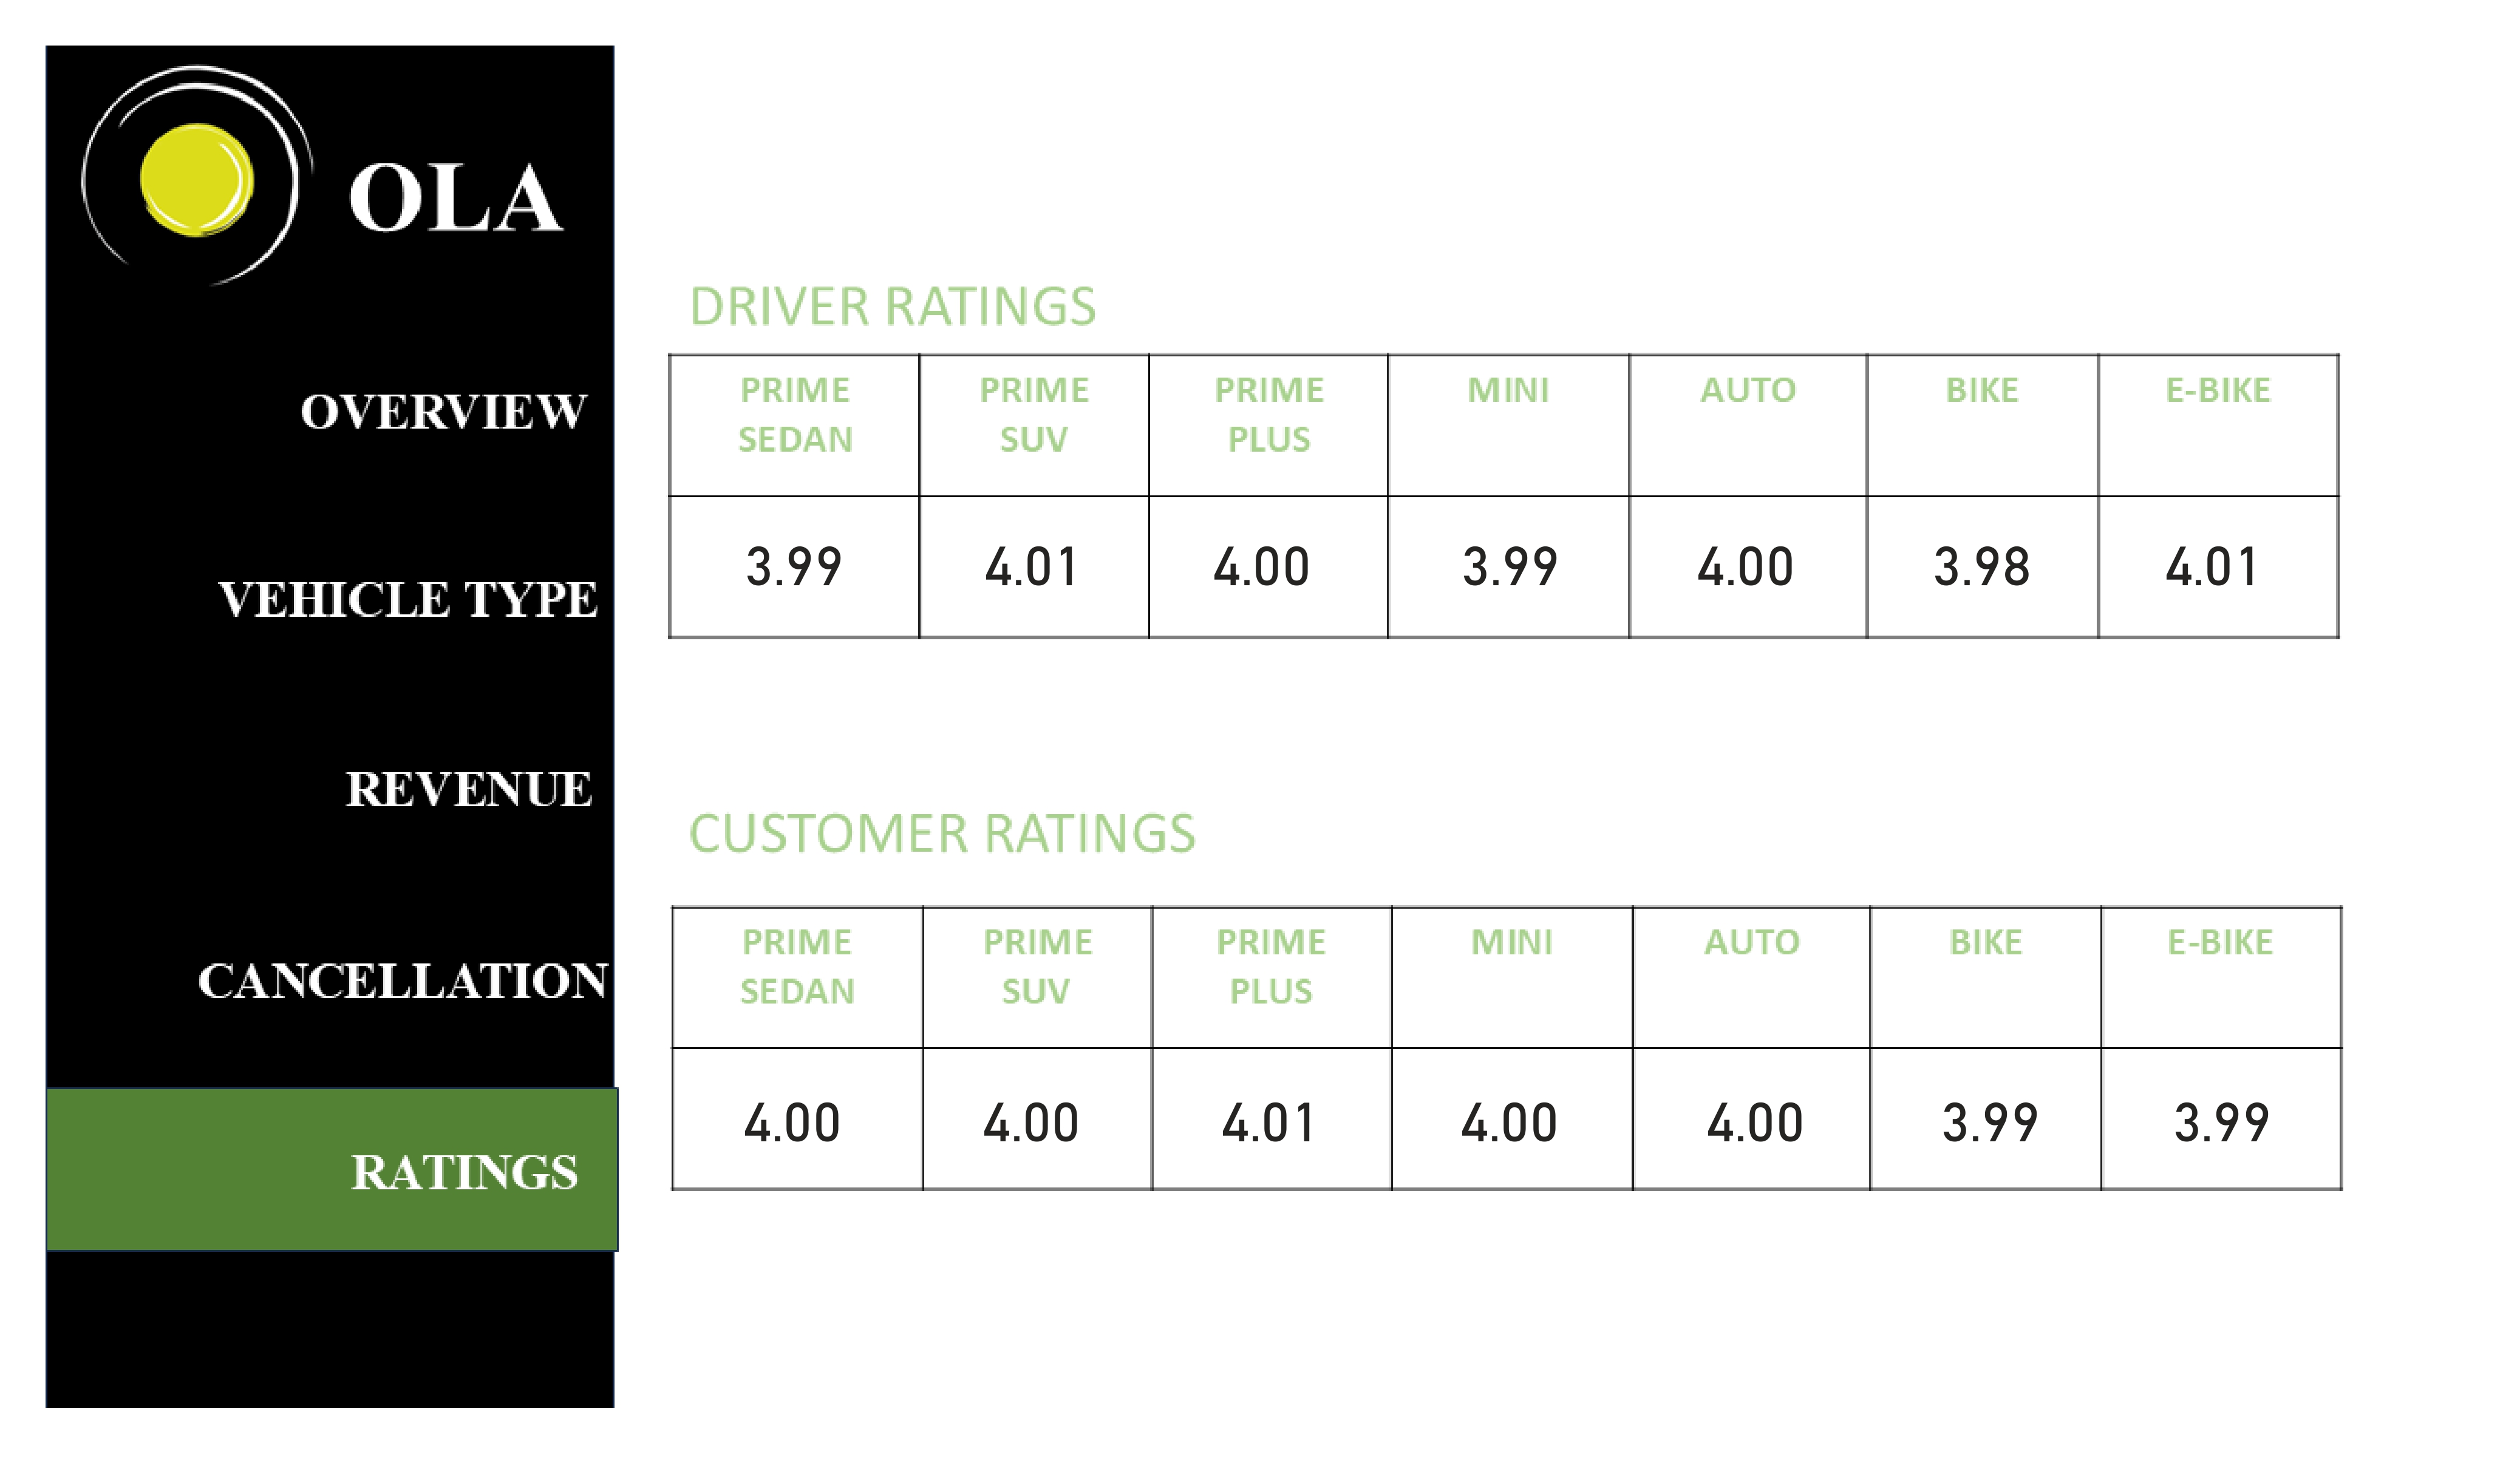

Layout of this report page (visuals, bound fields, positions):
{"tool":"powerbi","page":{"name":"RATINGS","canvas":[1280,720],"ordinal":4},"visuals":[{"type":"actionButton","box":[0,242.6,301.9,98.1],"z":0},{"type":"actionButton","box":[0,340.7,301.9,98.1],"z":1},{"type":"actionButton","box":[1.9,438.9,301.9,98.1],"z":2},{"type":"actionButton","box":[0,140.7,301.9,98.1],"z":3},{"type":"card","fields":{"Values":["Avg(July.Driver_Ratings)"]},"box":[335.2,238.9,118.5,66.7],"z":4},{"type":"card","fields":{"Values":["Avg(July.Driver_Ratings)"]},"box":[468.5,238.9,103.7,66.7],"z":5},{"type":"card","fields":{"Values":["Avg(July.Driver_Ratings)"]},"box":[588.9,238.9,103.7,66.7],"z":6},{"type":"card","fields":{"Values":["Avg(July.Driver_Ratings)"]},"box":[720.4,238.9,103.7,66.7],"z":7},{"type":"card","fields":{"Values":["Avg(July.Driver_Ratings)"]},"box":[844.4,238.9,103.7,66.7],"z":8},{"type":"card","fields":{"Values":["Avg(July.Driver_Ratings)"]},"box":[968.5,238.9,103.7,66.7],"z":9},{"type":"card","fields":{"Values":["Avg(July.Driver_Ratings)"]},"box":[1090.7,238.9,103.7,66.7],"z":10},{"type":"card","fields":{"Values":["Avg(July.Customer_Rating)"]},"box":[472.2,537,94.4,57.4],"z":11},{"type":"card","fields":{"Values":["Avg(July.Customer_Rating)"]},"box":[346.3,537,94.4,57.4],"z":12},{"type":"card","fields":{"Values":["Avg(July.Customer_Rating)"]},"box":[598.1,537,94.4,57.4],"z":13},{"type":"card","fields":{"Values":["Avg(July.Customer_Rating)"]},"box":[724.1,537,94.4,57.4],"z":14},{"type":"card","fields":{"Values":["Avg(July.Customer_Rating)"]},"box":[853.7,537,94.4,57.4],"z":15},{"type":"card","fields":{"Values":["Avg(July.Customer_Rating)"]},"box":[977.8,537,94.4,57.4],"z":16},{"type":"card","fields":{"Values":["Avg(July.Customer_Rating)"]},"box":[1100,537,94.4,57.4],"z":17}]}

Visuals, with their boxes on the page's 1280x720 design canvas (x1, y1, x2, y2). These are canvas units, not pixel positions in the 2520x1457 screenshot, which may show the page scaled, cropped or inside an application window:
actionButton: 0,243,302,341
actionButton: 0,341,302,439
actionButton: 2,439,304,537
actionButton: 0,141,302,239
card - Avg(July.Driver_Ratings): 335,239,454,306
card - Avg(July.Driver_Ratings): 468,239,572,306
card - Avg(July.Driver_Ratings): 589,239,693,306
card - Avg(July.Driver_Ratings): 720,239,824,306
card - Avg(July.Driver_Ratings): 844,239,948,306
card - Avg(July.Driver_Ratings): 968,239,1072,306
card - Avg(July.Driver_Ratings): 1091,239,1194,306
card - Avg(July.Customer_Rating): 472,537,567,594
card - Avg(July.Customer_Rating): 346,537,441,594
card - Avg(July.Customer_Rating): 598,537,692,594
card - Avg(July.Customer_Rating): 724,537,818,594
card - Avg(July.Customer_Rating): 854,537,948,594
card - Avg(July.Customer_Rating): 978,537,1072,594
card - Avg(July.Customer_Rating): 1100,537,1194,594
